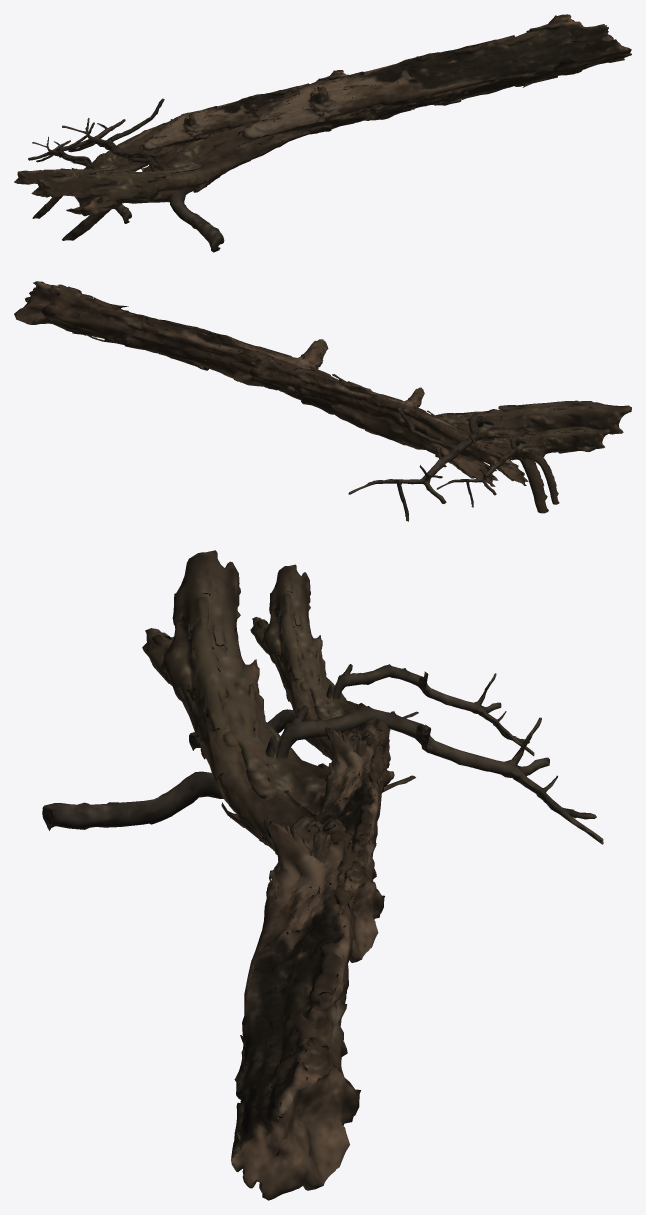
Rendered from RF3_Foreground_Branch_Frame.fbx.
3 renders of one model, top to bottom at view 1: azimuth 30°, elevation 25°; view 2: azimuth 150°, elevation 25°; view 3: azimuth 270°, elevation 25°, orthographic. The views are drawn at different scales.
Visible parts, largest first — view 1: RF3_Foreground_Branch_Frame; view 2: RF3_Foreground_Branch_Frame; view 3: RF3_Foreground_Branch_Frame.
Part boxes in pixels (<box>): RF3_Foreground_Branch_Frame: <box>14,14,631,252</box>; RF3_Foreground_Branch_Frame: <box>14,281,631,521</box>; RF3_Foreground_Branch_Frame: <box>42,550,603,1200</box>.
Size of the model in its own units: 620 by 104 by 253.
